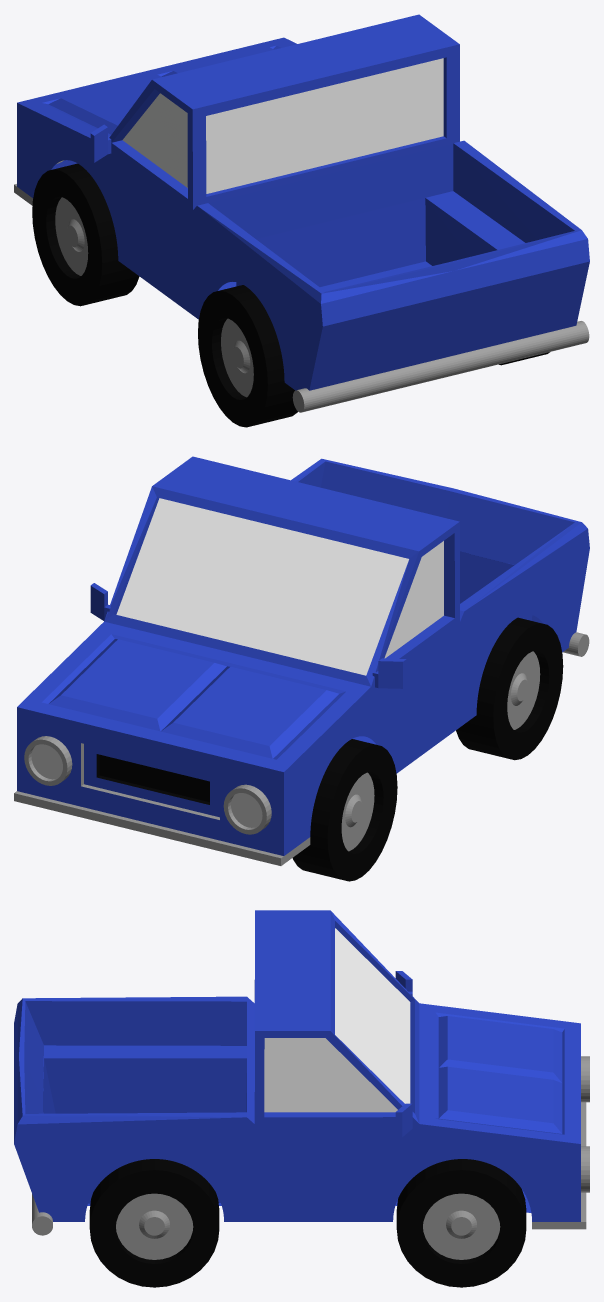
Rendered from Blue Car.dae.
The picture shows the model from 3 angles, top to bottom: view 1: azimuth 30°, elevation 25°; view 2: azimuth 150°, elevation 25°; view 3: azimuth 270°, elevation 25°; orthographic projection. The views are drawn at different scales.
Visible parts, largest first — view 1: Car, Cylinder-003, Cylinder-001, Cube-001; view 2: Car, Cylinder-001, Cylinder-003, Cylinder-002; view 3: Car, Cylinder-001, Cylinder-003, Cylinder-002, Cube-001.
Part boxes in pixels (box(x1,y1,x2,y2)): Car: box(14, 14, 589, 390); Cylinder-003: box(32, 163, 139, 306); Cylinder-001: box(198, 285, 549, 427); Cube-001: box(292, 321, 589, 412); Car: box(14, 456, 589, 865); Cylinder-001: box(456, 617, 563, 760); Cylinder-003: box(292, 739, 397, 881); Cylinder-002: box(24, 736, 271, 834); Car: box(14, 910, 586, 1229); Cylinder-001: box(89, 1159, 219, 1287); Cylinder-003: box(396, 1159, 526, 1287); Cylinder-002: box(581, 1056, 589, 1192); Cube-001: box(32, 1194, 52, 1235).
Bounding box in the file's own units: 1.24 × 1.03 × 2.14.
